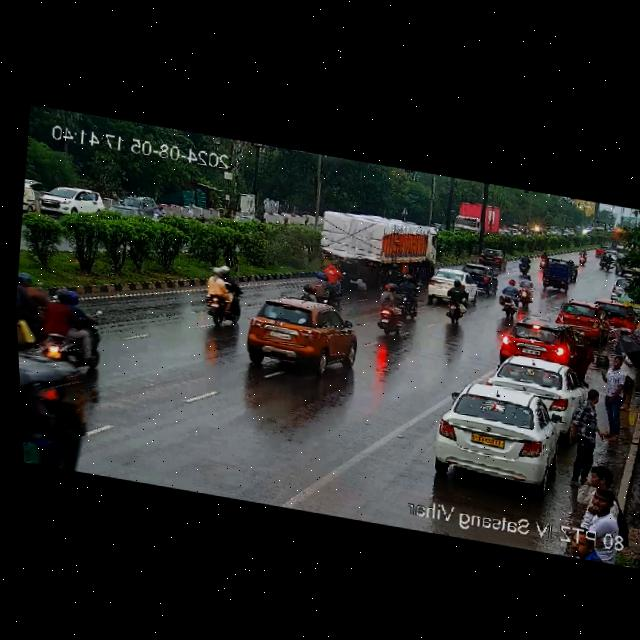car: (424, 373, 570, 491), (231, 289, 359, 382), (18, 346, 109, 415), (490, 351, 582, 414), (496, 312, 588, 368), (27, 177, 103, 224), (99, 189, 165, 221), (556, 300, 609, 337), (422, 266, 472, 304), (462, 264, 497, 297), (540, 258, 573, 291), (476, 245, 506, 268)
motorcycle: (26, 277, 112, 373), (188, 259, 250, 332), (14, 277, 58, 346), (375, 282, 411, 339), (439, 277, 475, 320), (495, 279, 522, 322), (587, 242, 617, 272), (308, 271, 334, 303), (516, 272, 535, 313), (514, 251, 534, 276)
person: (564, 459, 635, 556), (590, 351, 637, 438), (565, 388, 613, 471)
truck: (306, 203, 434, 286), (450, 197, 505, 242)
